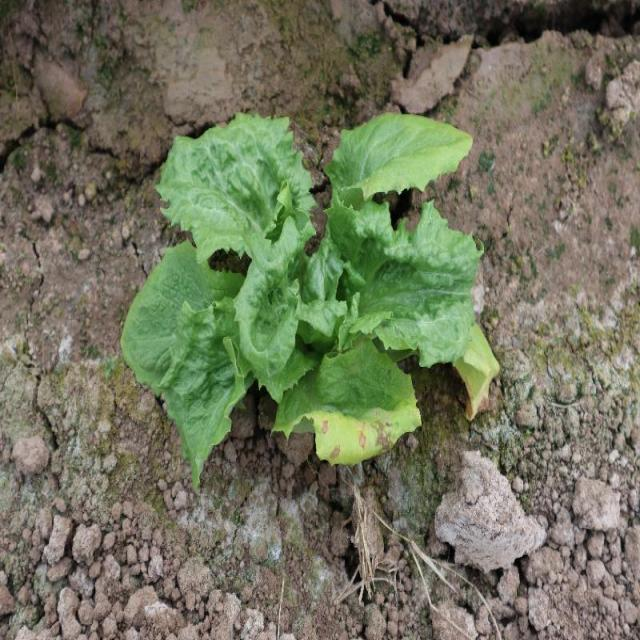crop: (119, 106, 501, 492)
